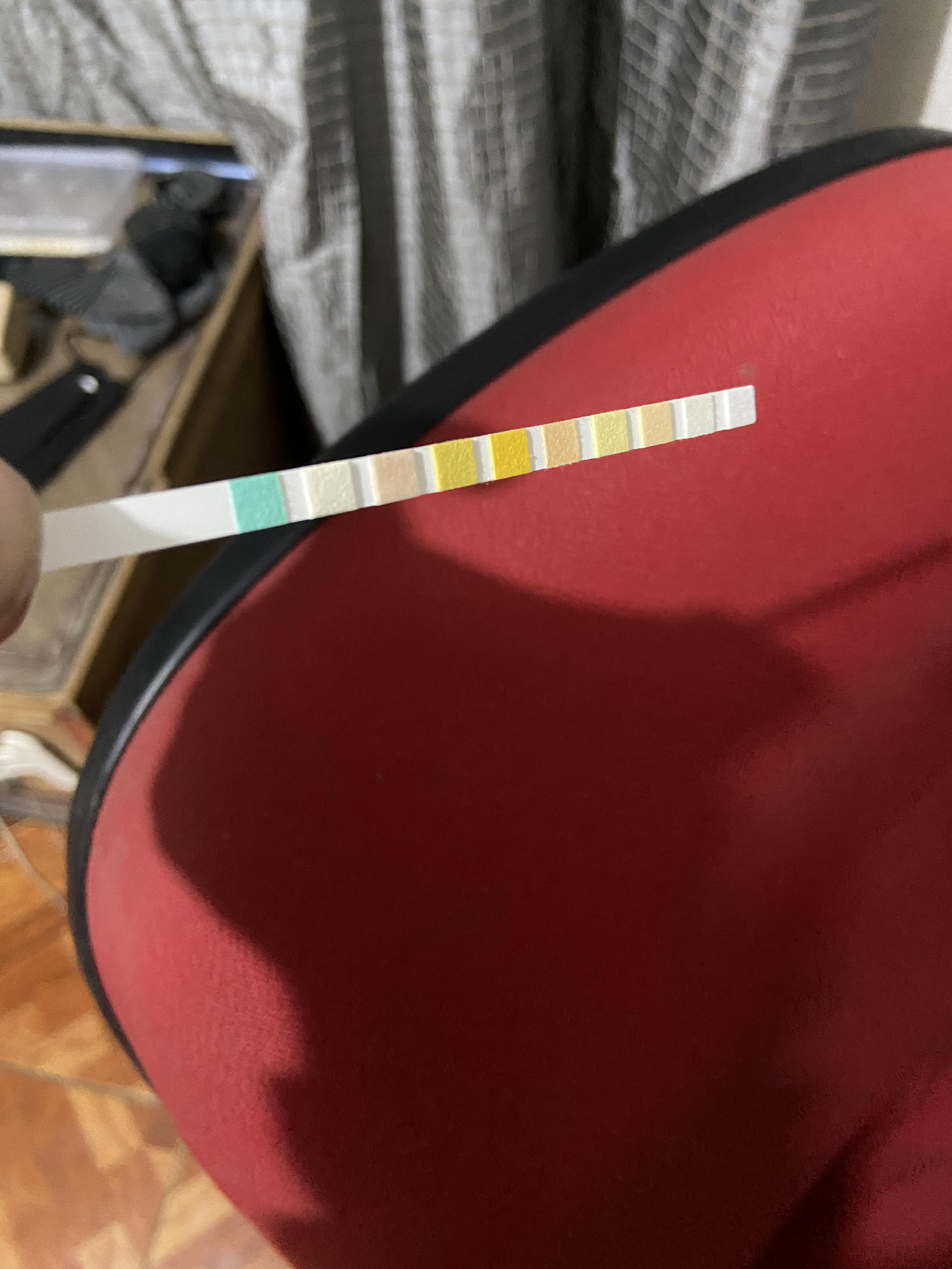Bilirubin: (315, 468, 350, 511)
Blood: (496, 434, 524, 473)
Glucose: (241, 482, 280, 524)
Ketone: (380, 455, 413, 497)
Leukocytes: (732, 392, 752, 424)
Nitrite: (689, 400, 710, 433)
Protein: (600, 416, 625, 452)
SpGravity: (441, 447, 470, 486)
Urobilinogen: (646, 406, 670, 443)
pH: (548, 426, 576, 461)
strip: (49, 384, 757, 567)
